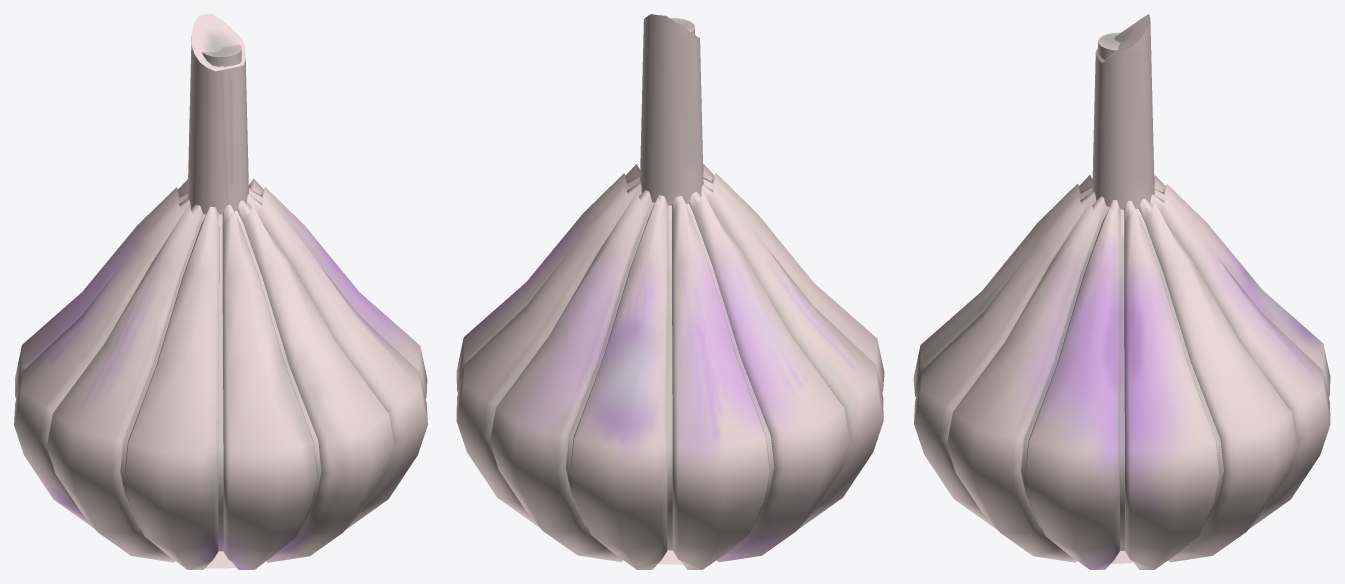
The model's file is garlic3.fbx.
3 views of the same model, side by side, from view 1: azimuth 30°, elevation 25°; view 2: azimuth 150°, elevation 25°; view 3: azimuth 270°, elevation 25° (orthographic). The views are drawn at different scales.
Visible parts, largest first — view 1: garlic3; view 2: garlic3; view 3: garlic3.
Part boxes in pixels (x1,y1,x2,y2): garlic3: (14, 14, 427, 569); garlic3: (456, 14, 884, 569); garlic3: (913, 14, 1330, 569).
Size of the model in its own units: 0.2528 by 0.3521 by 0.2527.
Materials: 1 (1 with a texture image).
